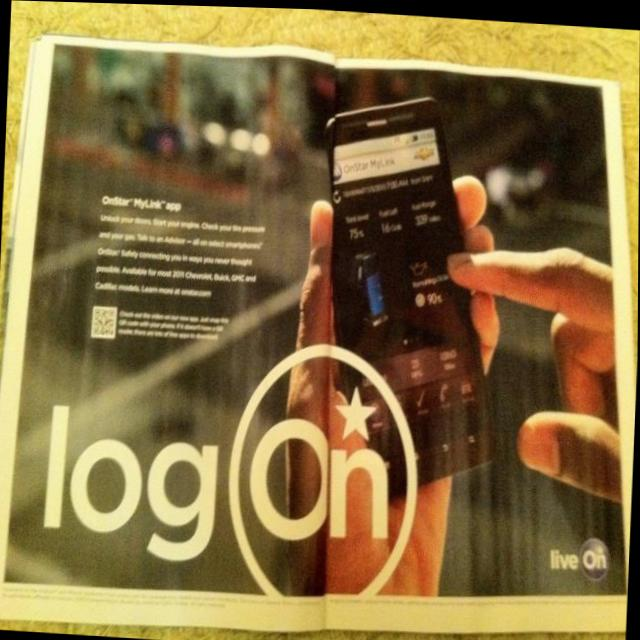qrcode: (95, 308, 116, 335)
